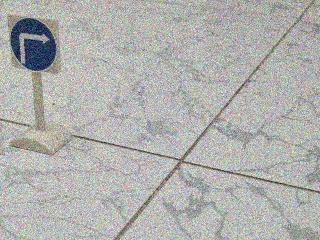right: (1, 8, 67, 80)
